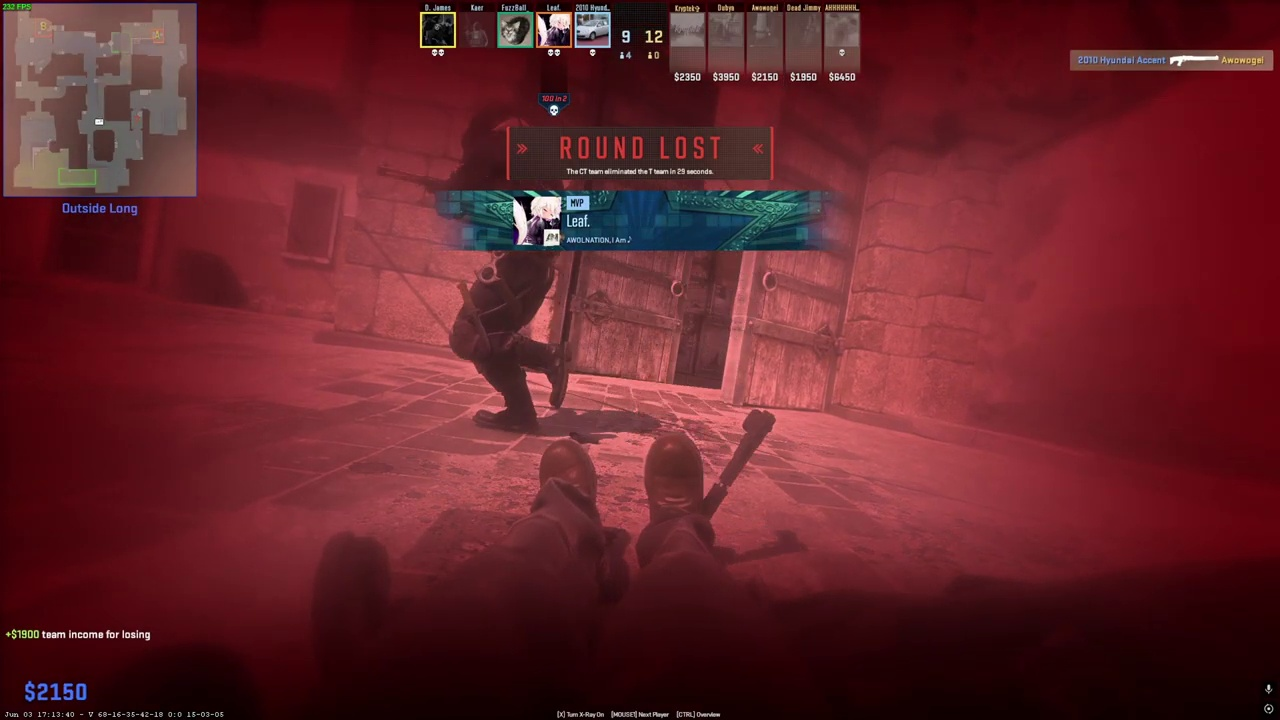CT: (439, 101, 573, 434)
